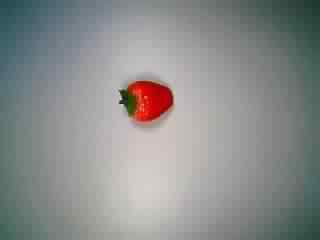strawberry: (110, 70, 178, 134)
